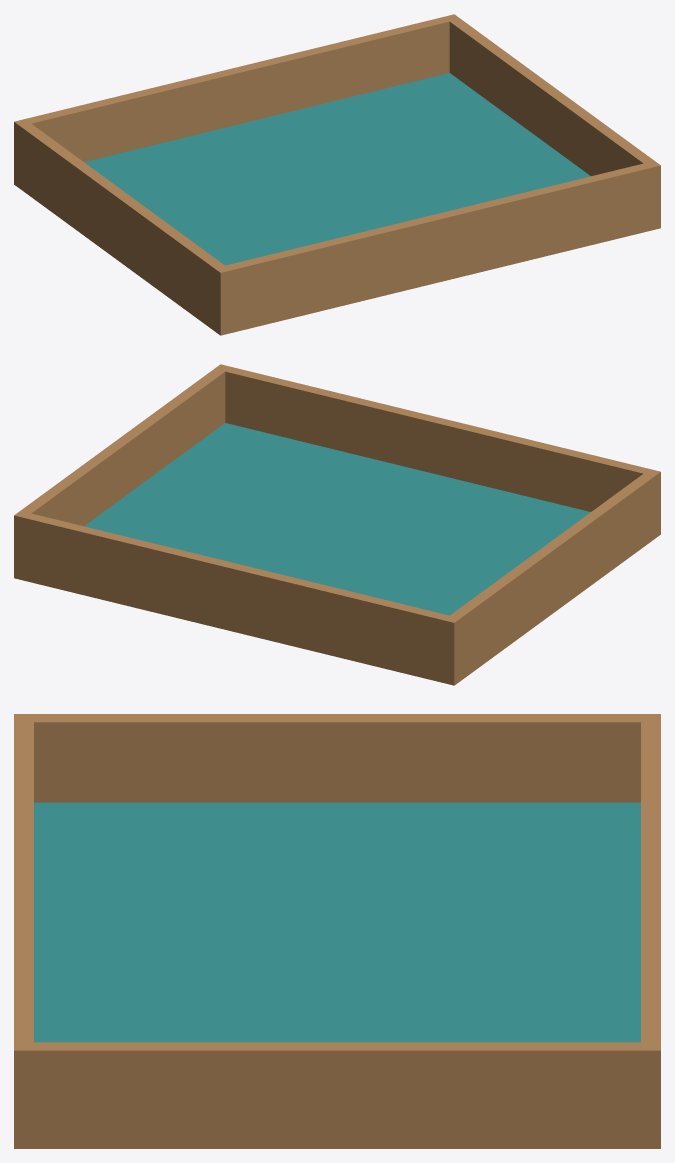
File: tabletop-game-components-dice-tray-94d3ce3f__20870.glb
3 renders of one model, top to bottom at view 1: azimuth 30°, elevation 25°; view 2: azimuth 150°, elevation 25°; view 3: azimuth 270°, elevation 25°, orthographic. The views are drawn at different scales.
Visible parts, largest first — view 1: dice-tray; view 2: dice-tray; view 3: dice-tray.
Part boxes in pixels (<box>): dice-tray: <box>14,14,660,335</box>; dice-tray: <box>14,364,660,685</box>; dice-tray: <box>14,714,660,1148</box>.
Size of the model in its own units: 0.16 by 0.0218 by 0.13.
